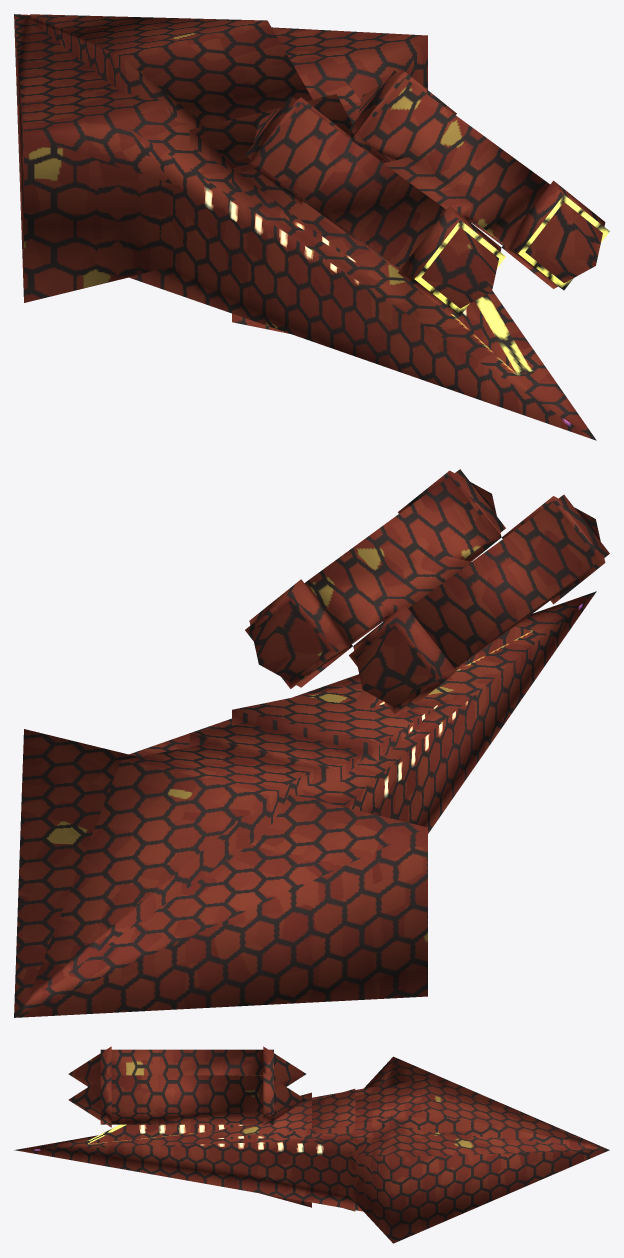
The model's file is zandrax_light_cruiser.glb.
3 renders of one model, top to bottom at view 1: azimuth 30°, elevation 25°; view 2: azimuth 150°, elevation 25°; view 3: azimuth 270°, elevation 25°, orthographic. The views are drawn at different scales.
Visible parts, largest first — view 1: ZandraxLightCruiser; view 2: ZandraxLightCruiser; view 3: ZandraxLightCruiser.
Part boxes in pixels (x1=…): ZandraxLightCruiser: x1=14, y1=14, x2=609, y2=440; ZandraxLightCruiser: x1=14, y1=469, x2=609, y2=1017; ZandraxLightCruiser: x1=14, y1=1046, x2=609, y2=1243.
Bounding box in the file's own units: 22 × 13.66 × 55.
Materials: 1 (1 with a texture image).
